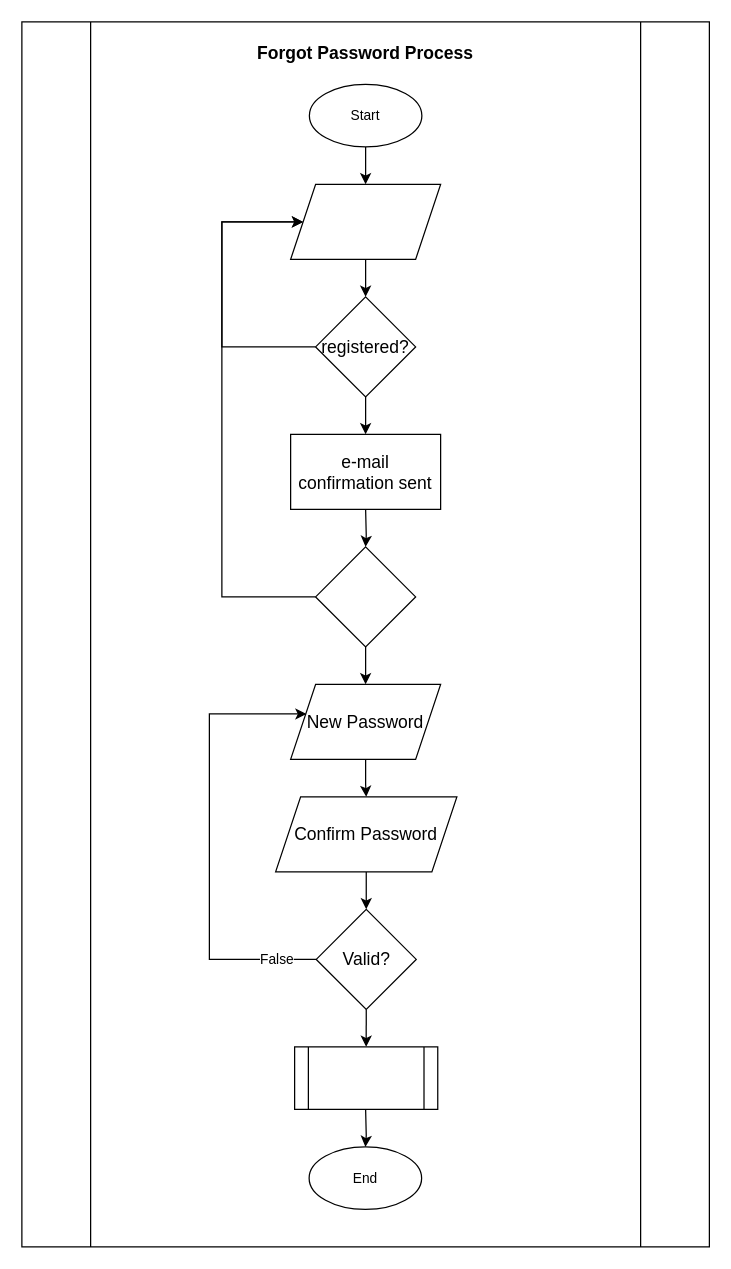
Image size: 731x1269. Some labels were removed from this diagram. Here are the shapes that lost their labels. From the top down, the centre of each, then its label:
At (x=365, y=221): "email or phone number".
At (x=365, y=596): "received?".
At (x=365, y=1077): "Sign in".
